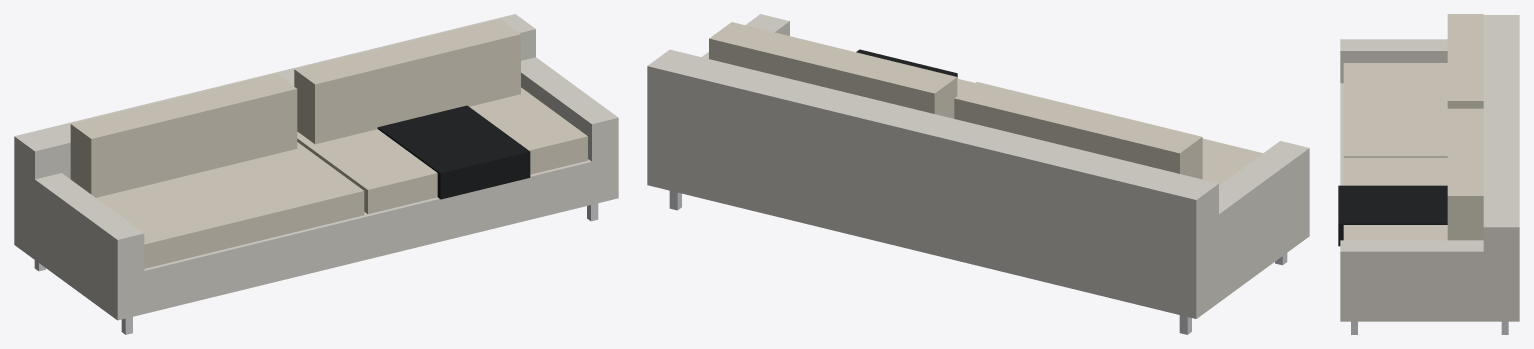
The model's file is sofa_modern.glb.
The picture shows the model from 3 angles, left to right: view 1: azimuth 30°, elevation 25°; view 2: azimuth 150°, elevation 25°; view 3: azimuth 270°, elevation 25°; orthographic projection. The views are drawn at different scales.
Parts seen in each view (by area): view 1: sofa_modern; view 2: sofa_modern; view 3: sofa_modern.
Boxes of the visible parts, x1,y1,x2,y2 form: sofa_modern: (14, 14, 618, 334); sofa_modern: (647, 14, 1309, 334); sofa_modern: (1338, 14, 1519, 334).
Bounding box in the file's own units: 2.8 × 0.8 × 1.01.
1 material, 1 textured.
